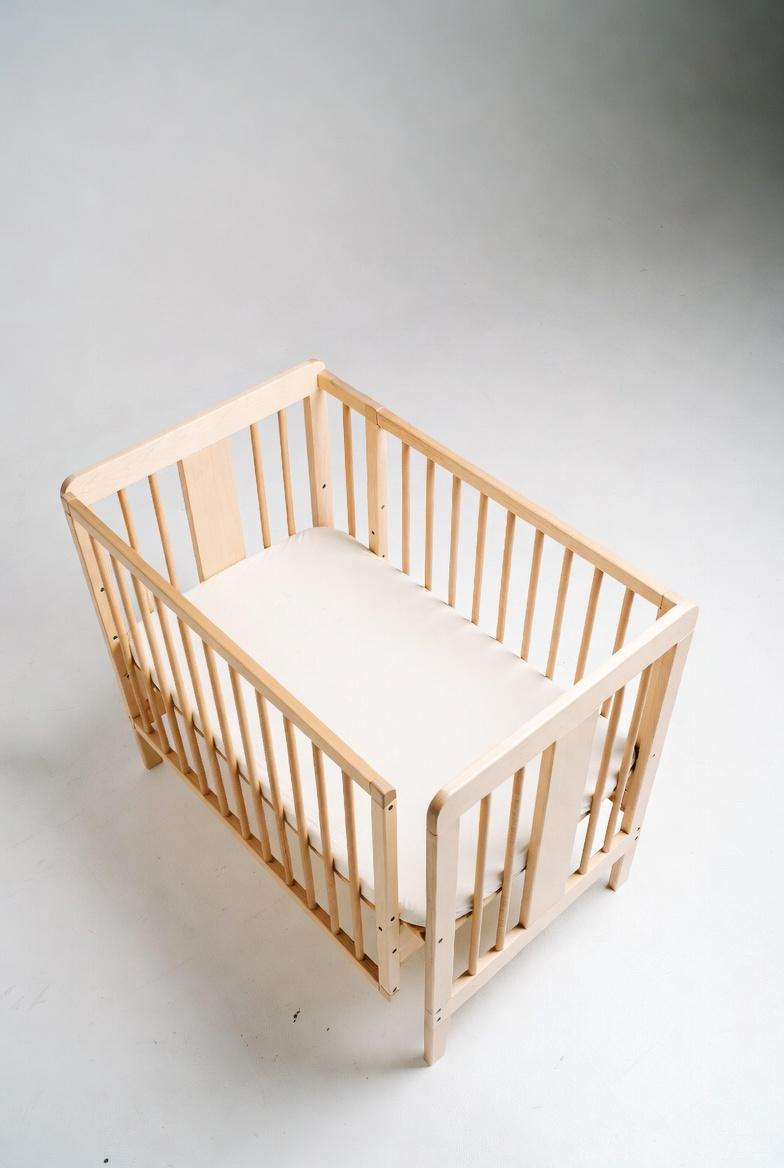crib: (62, 361, 697, 1063)
